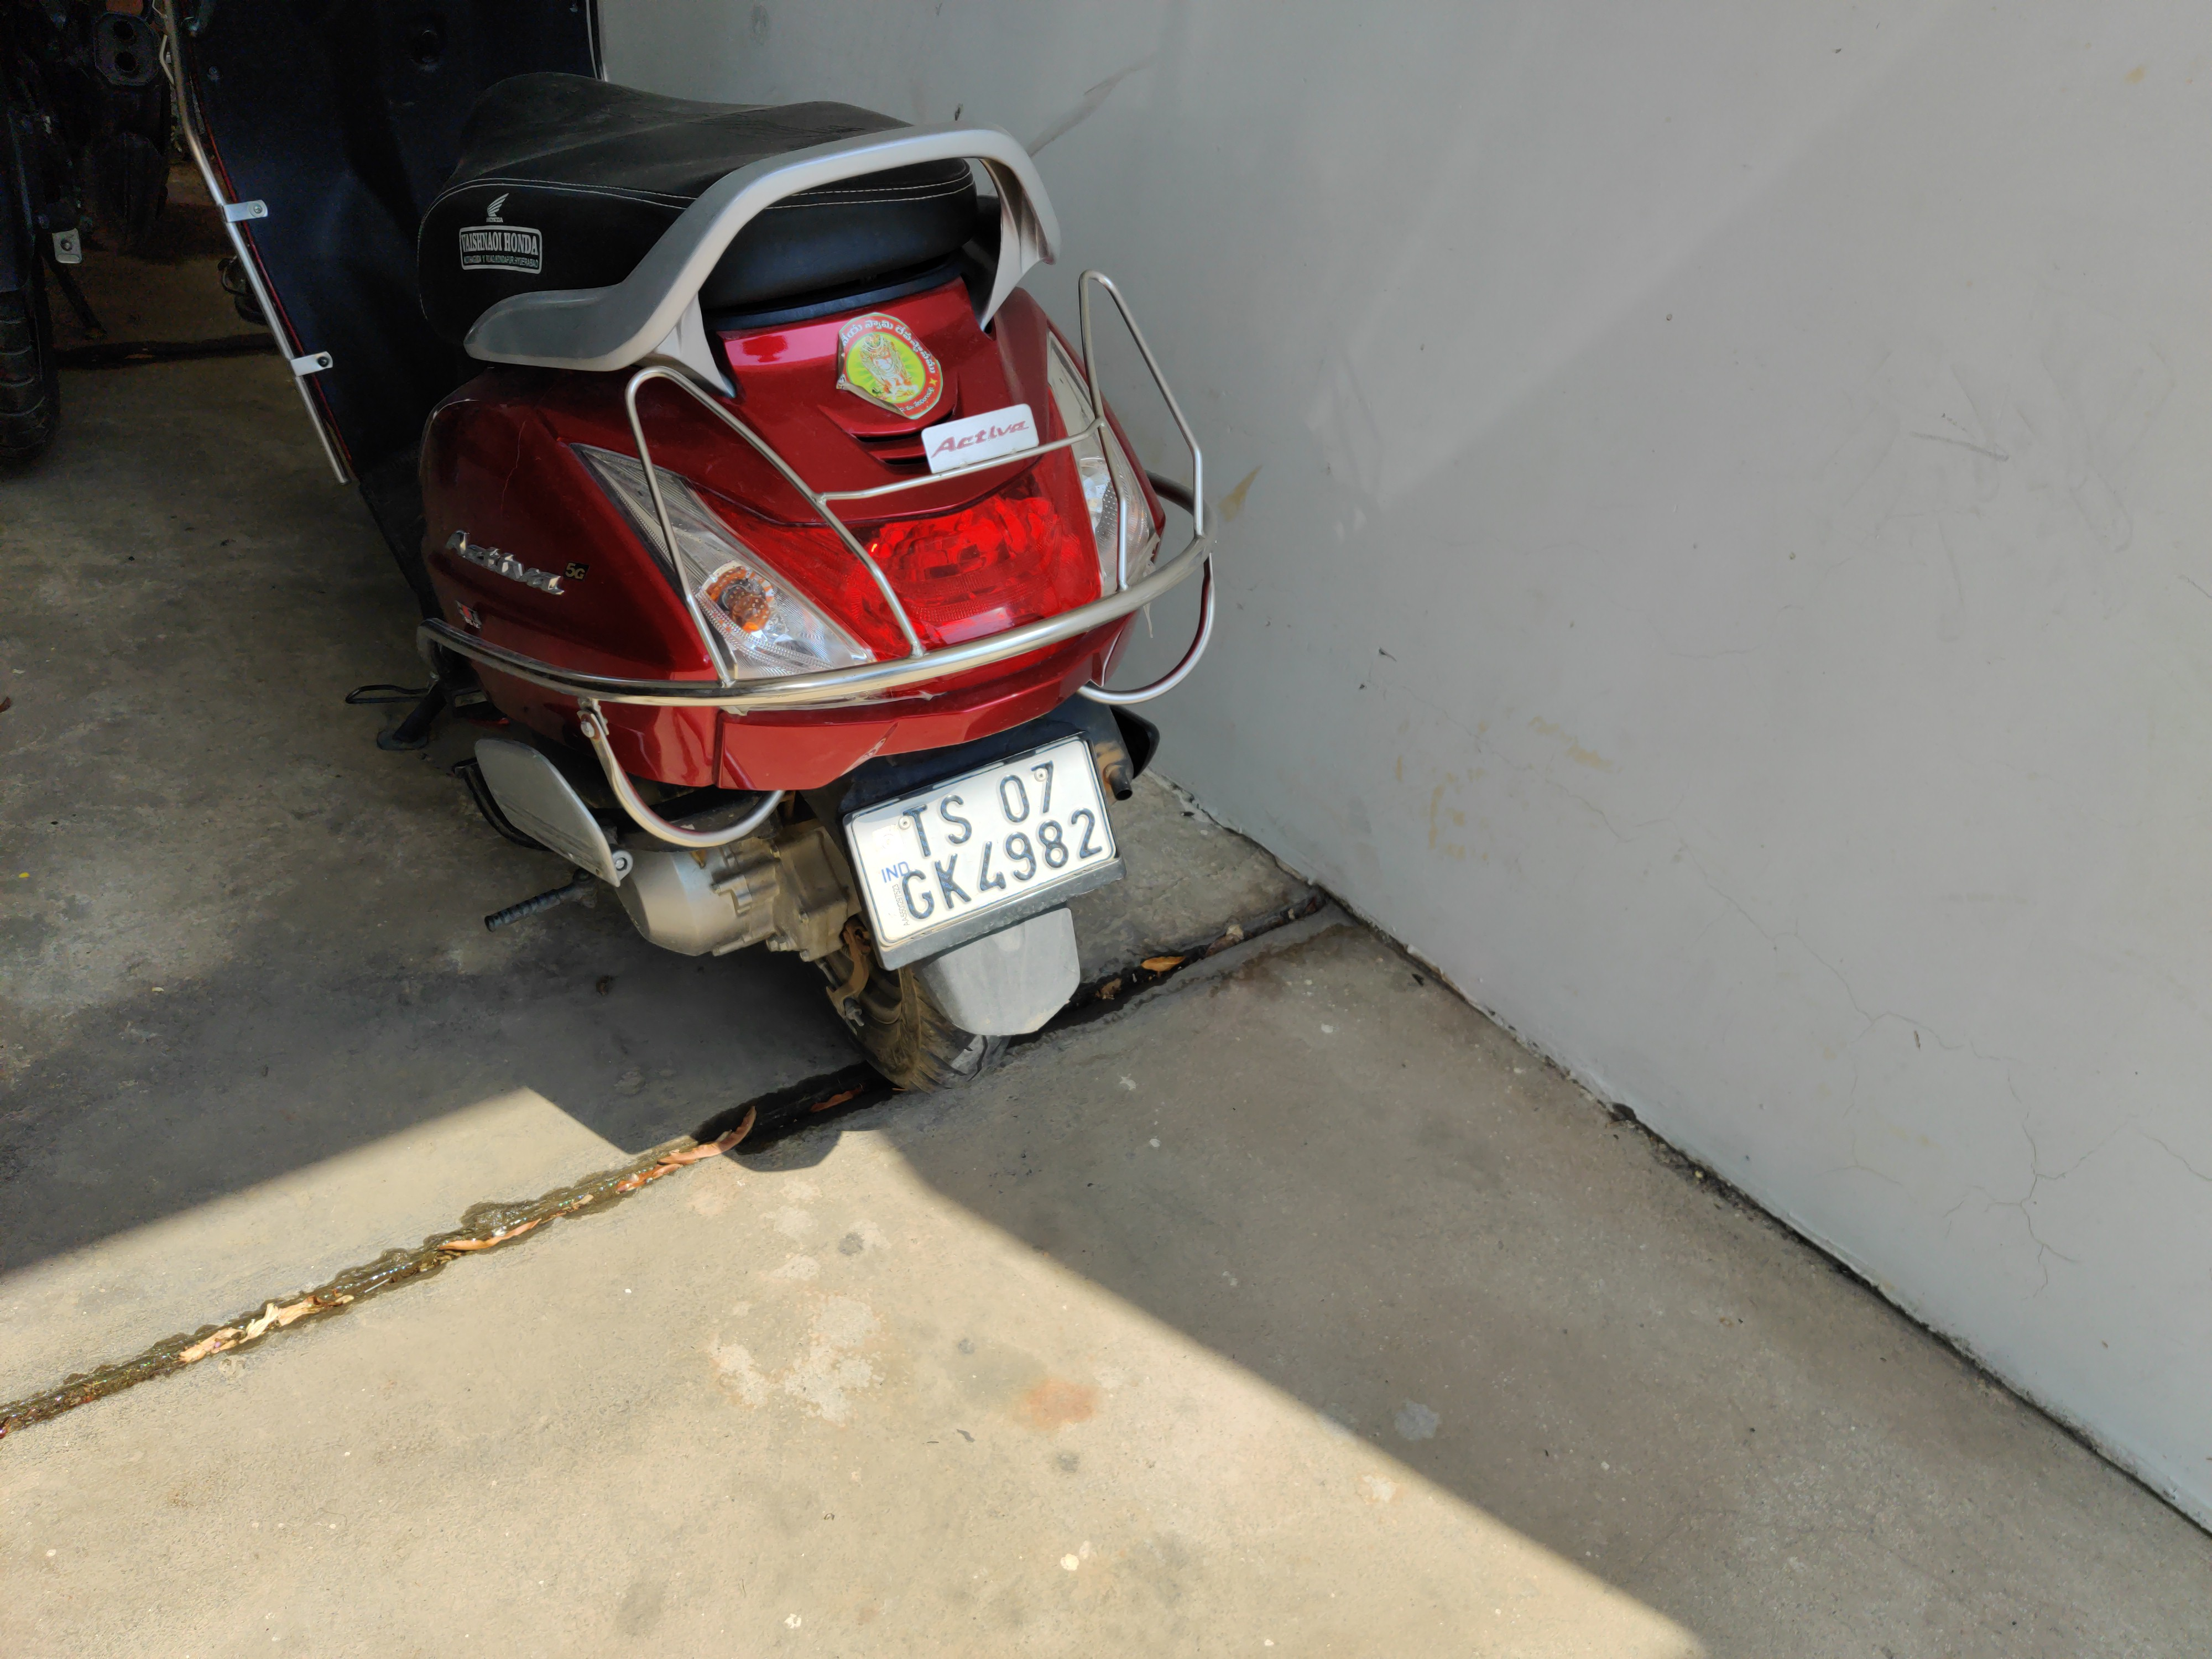plate: (816, 730, 1152, 983)
